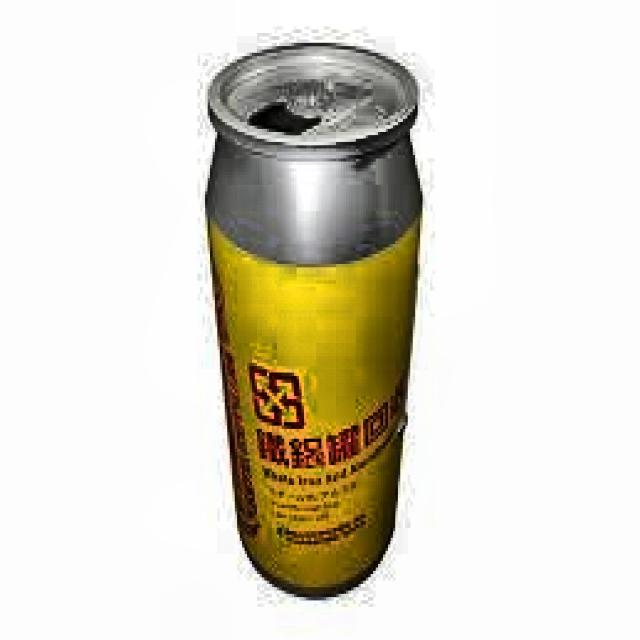can: (194, 33, 429, 616)
